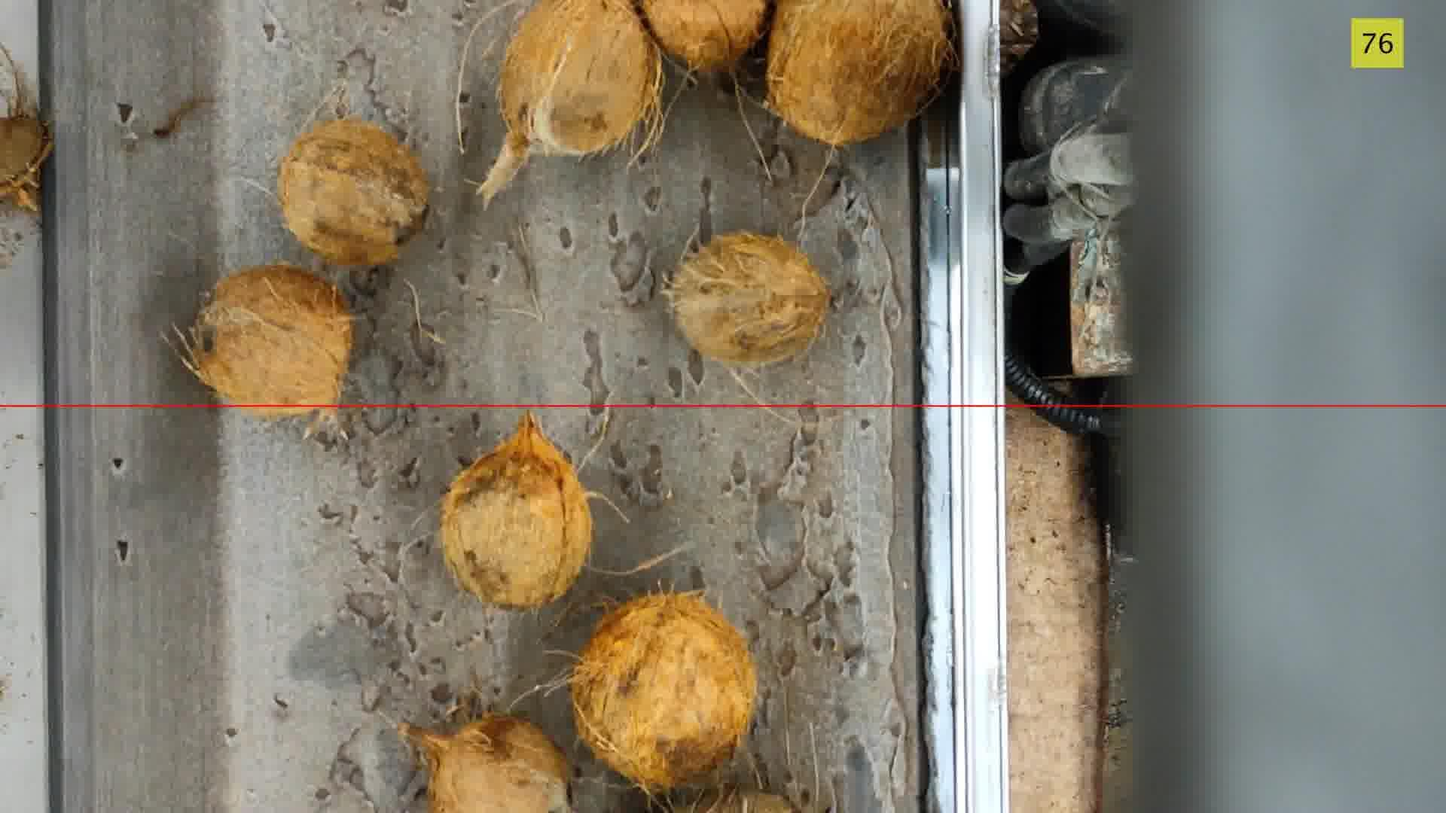Coconut: (478, 0, 662, 206), (570, 593, 756, 793), (442, 413, 592, 608), (768, 0, 953, 145), (187, 264, 352, 417), (278, 119, 428, 265), (667, 233, 829, 367), (400, 715, 570, 812), (640, 0, 767, 72), (0, 46, 53, 211), (673, 790, 798, 812)
